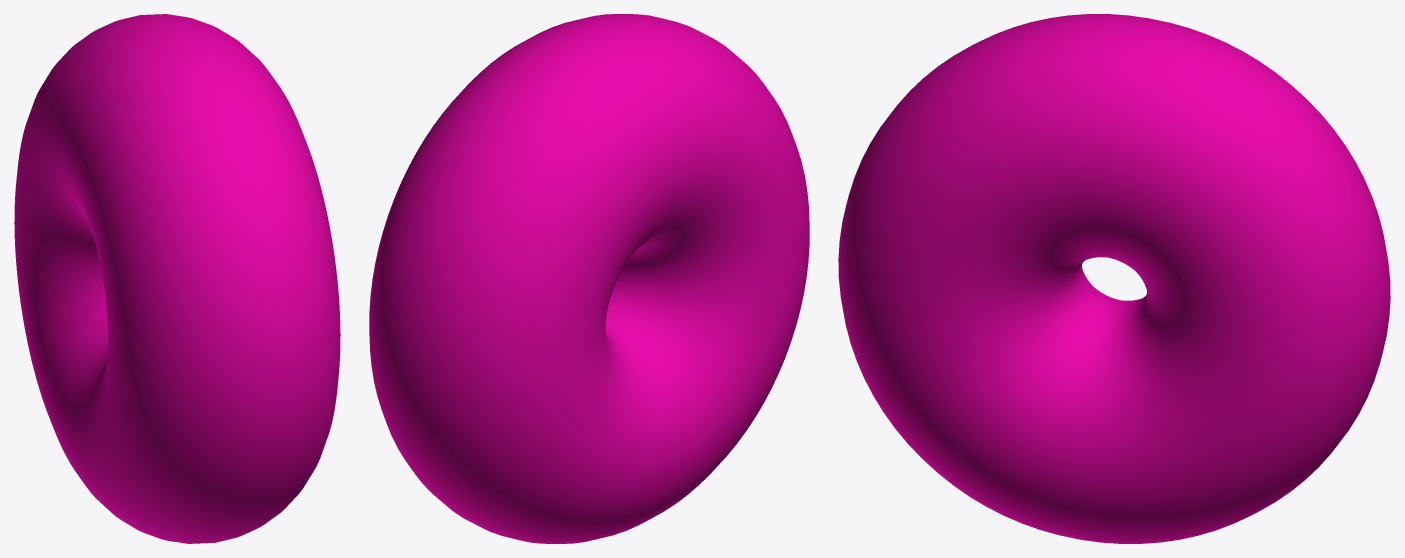
The model's file is torrus.glb.
3 views of the same model, side by side, from view 1: azimuth 30°, elevation 25°; view 2: azimuth 150°, elevation 25°; view 3: azimuth 270°, elevation 25° (orthographic). The views are drawn at different scales.
Parts seen in each view (by area): view 1: Torus.001; view 2: Torus.001; view 3: Torus.001.
Part boxes in pixels (bbox=[...]): Torus.001: bbox=[14, 14, 340, 543]; Torus.001: bbox=[369, 14, 809, 543]; Torus.001: bbox=[838, 14, 1390, 543].
Bounding box in the file's own units: 1.46 × 2.66 × 2.63.
